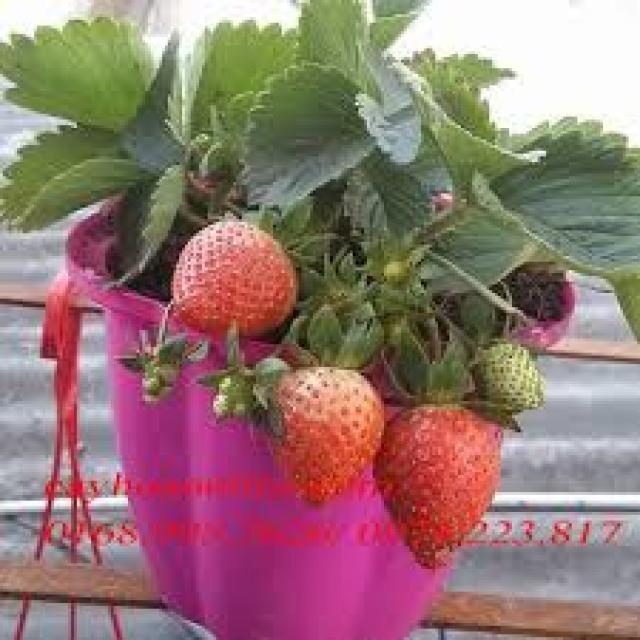Fruta sana: (376, 398, 514, 571), (263, 364, 388, 510), (176, 203, 300, 345)
